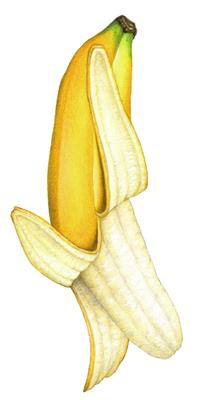banana: (0, 0, 203, 400)
